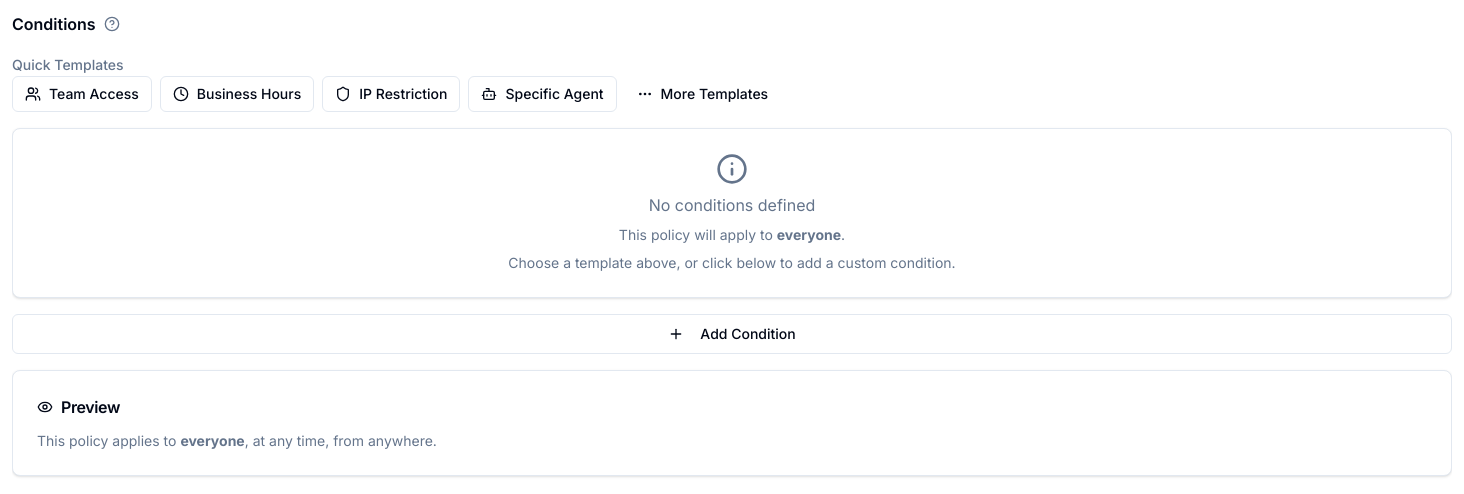
it: ConditionsSection › applying templates › applies Specific Agent template and adds condition
Click the button "Specific Agent": {"x": 543, "y": 94} top-left (468, 76), bottom-right (617, 112)
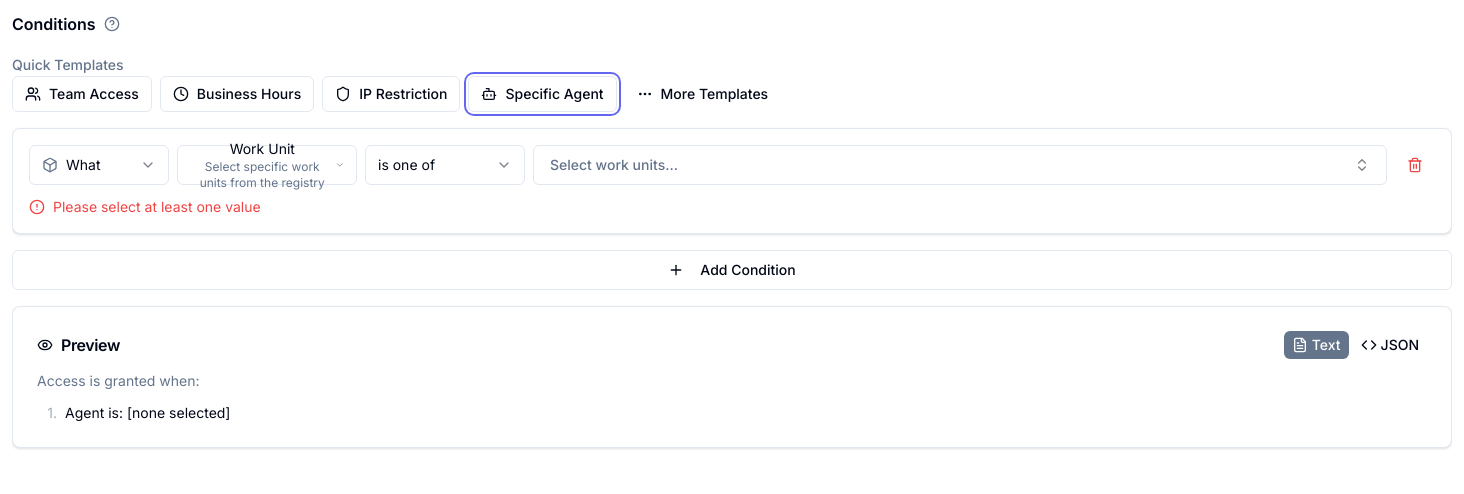
Now the text "No conditions defined" is gone
